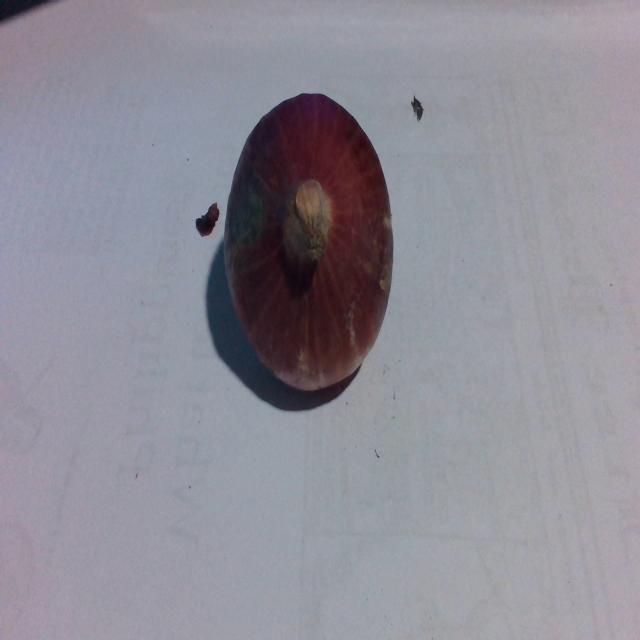onion: (224, 80, 395, 418)
